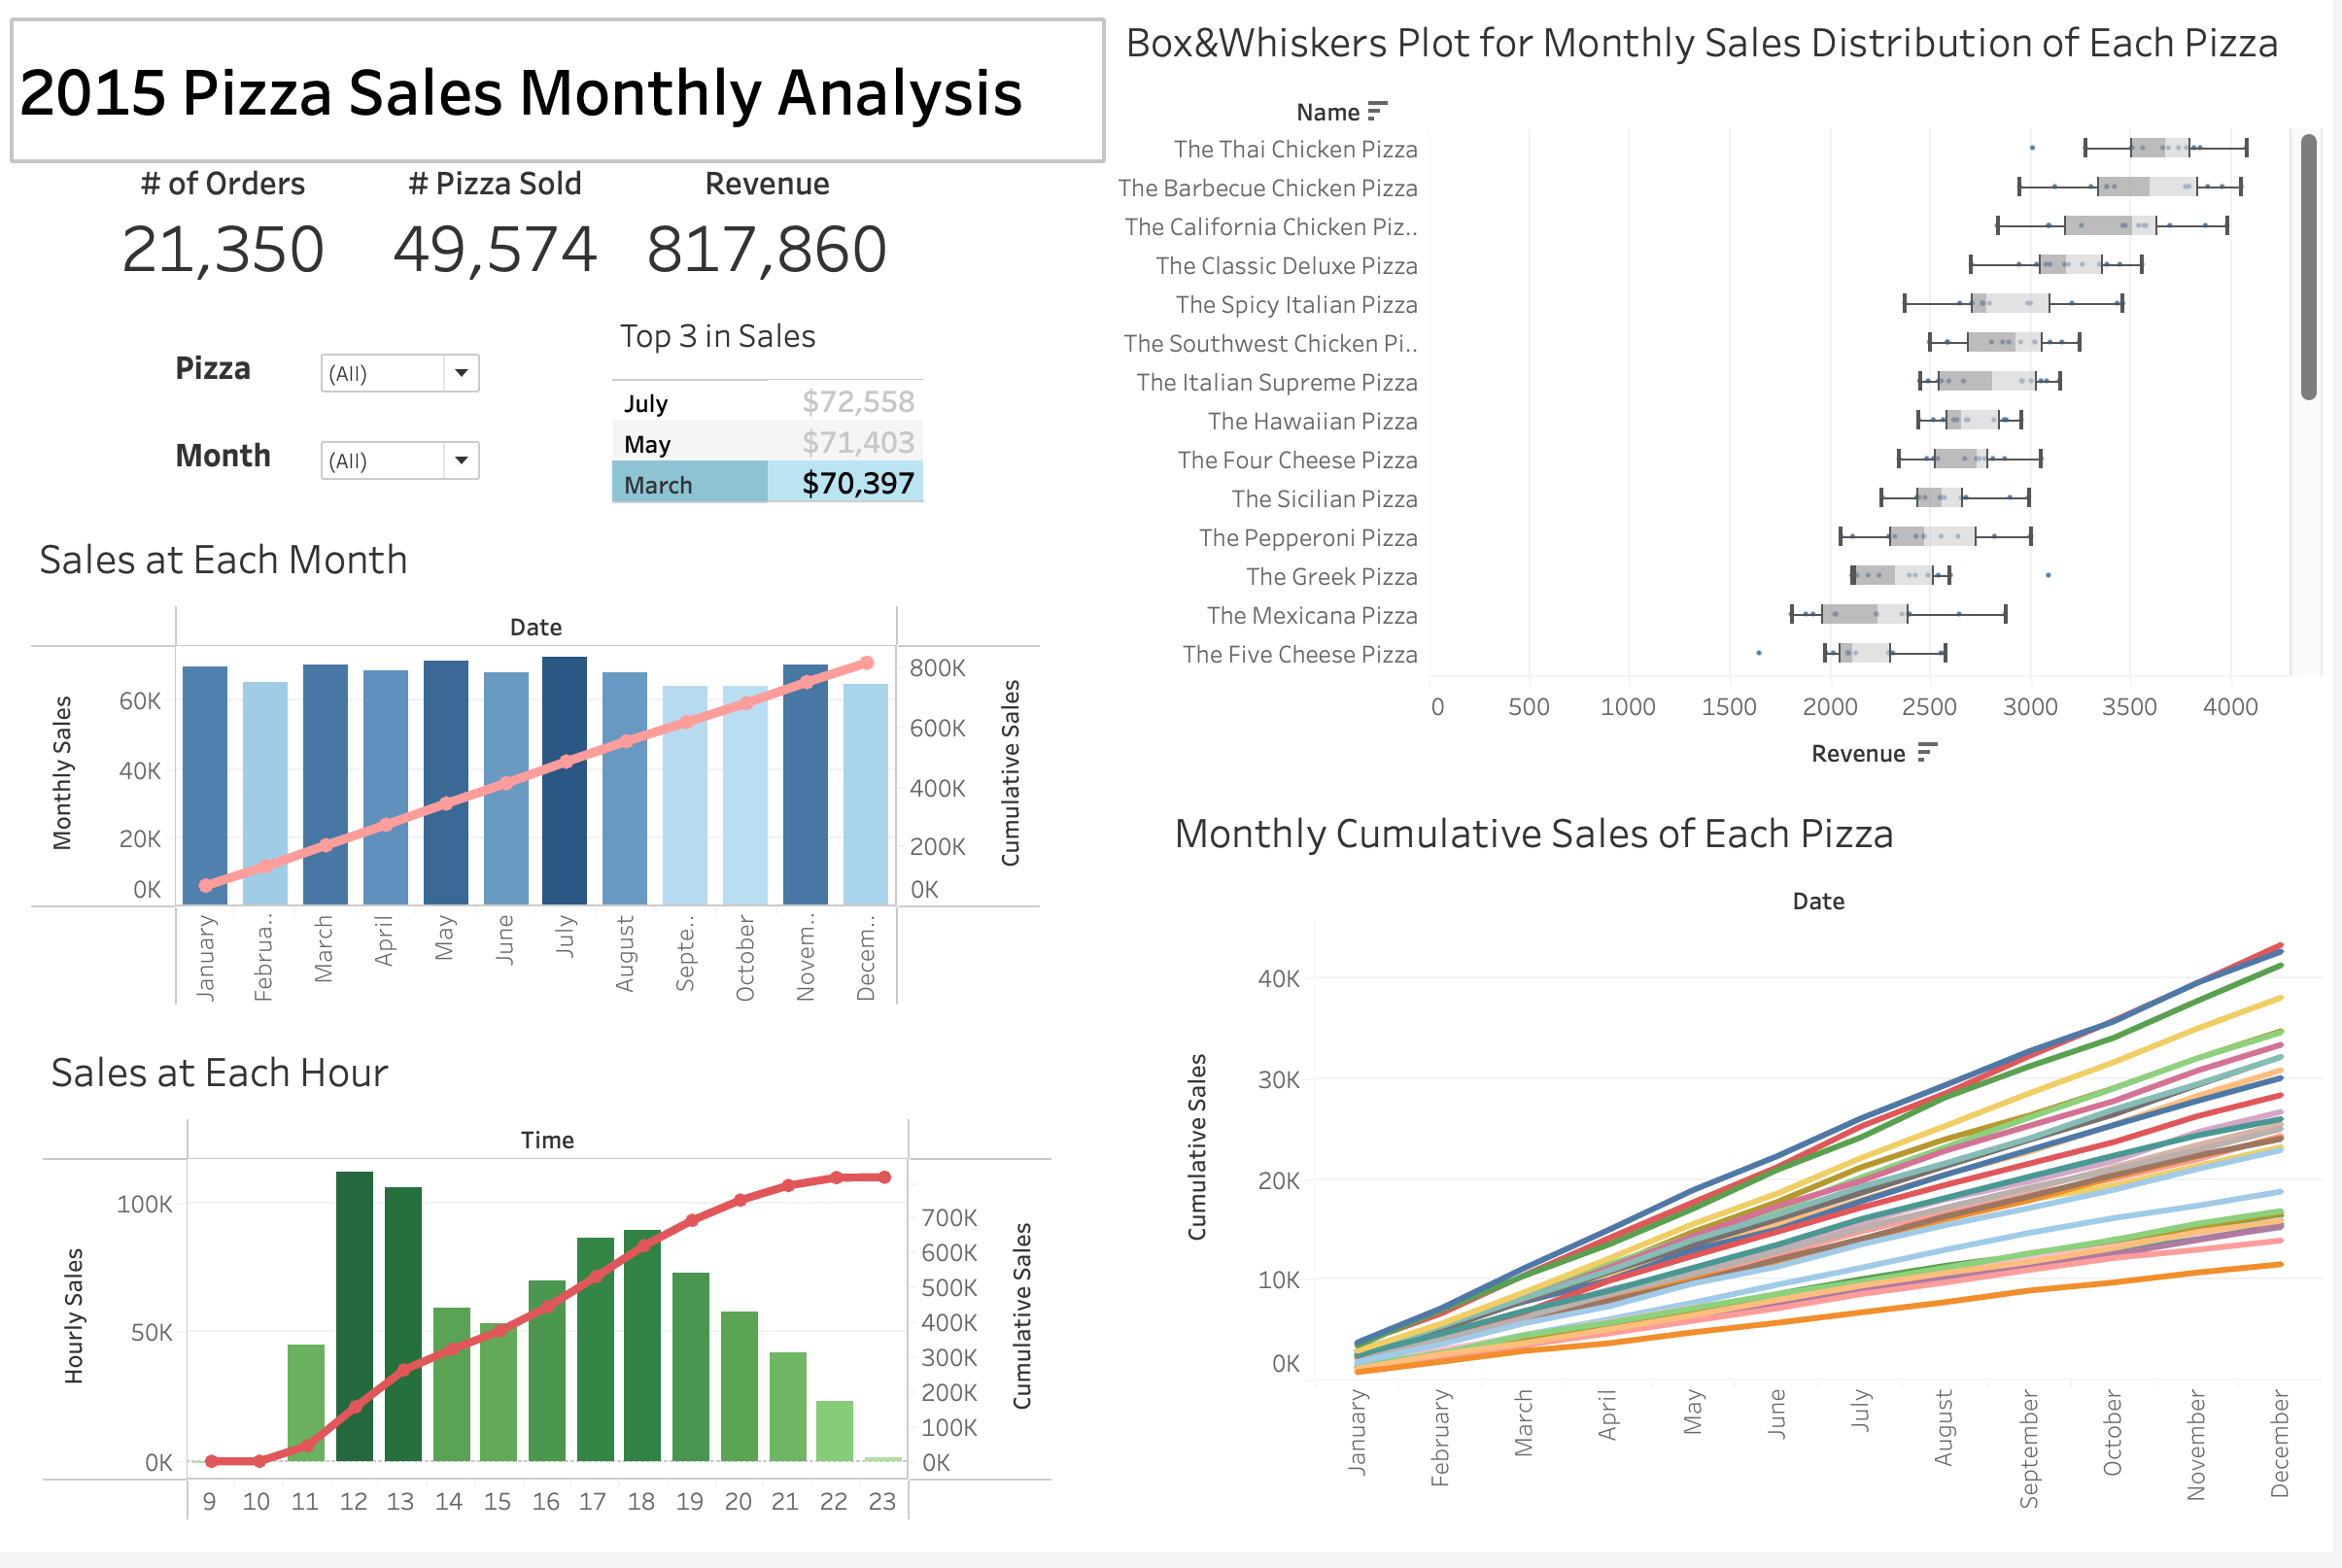

What the dashboard file says about the page in this screenshot:
{"tool":"tableau","page":{"name":"Dashboard 2","canvas":[1000,1000],"units":"permille","ordinal":1},"visuals":[{"type":"worksheet","title":"box_month_name","mark":"Circle","rows":["name"],"cols":["Revenue"],"box":[479.2,5,516.7,500]},{"type":"text","box":[5.8,15,466.7,88.8]},{"type":"worksheet","title":"KPI","mark":"Automatic","box":[37.5,106.2,396.7,102.5]},{"type":"worksheet","title":"Top_3_sales (2)","mark":"Automatic","rows":["date"],"box":[262.5,197.5,175.8,145]},{"type":"filter","title":"box_month_name","param":"[federated.1o0dw7k0faptvu1bidrdg0b0qbd8].[none:name:nk]","box":[75,225,133.3,45]},{"type":"filter","title":"Bar_month","param":"[federated.1o0dw7k0faptvu1bidrdg0b0qbd8].[mn:date:ok]","box":[75,281.2,133.3,45]},{"type":"worksheet","title":"Bar_month","mark":"Bar","rows":["Revenue","Revenue"],"cols":["date"],"box":[13.3,337.5,433.3,312.5]},{"type":"worksheet","title":"c_month_name","mark":"Automatic","rows":["monthly_cumulative_sales"],"cols":["date"],"box":[500,513.8,495.8,475]},{"type":"worksheet","title":"c_hour_month","mark":"Bar","rows":["Revenue","Revenue"],"cols":["time"],"box":[18.3,667.5,433.3,312.5]}]}

Visuals, with their boxes on the dashboard's canvas, which has no fixed pixel size, in thousandths of its width and height (x1, y1, x2, y2). These are canvas units, not pixel positions in the 2342x1568 screenshot, which may show the page scaled, cropped or inside an application window:
"box_month_name" worksheet (Circle marks): bbox=[479, 5, 996, 505]
text: bbox=[6, 15, 472, 104]
"KPI" worksheet: bbox=[38, 106, 434, 209]
"Top_3_sales (2)" worksheet: bbox=[262, 198, 438, 342]
"box_month_name" filter: bbox=[75, 225, 208, 270]
"Bar_month" filter: bbox=[75, 281, 208, 326]
"Bar_month" worksheet (Bar marks): bbox=[13, 338, 447, 650]
"c_month_name" worksheet: bbox=[500, 514, 996, 989]
"c_hour_month" worksheet (Bar marks): bbox=[18, 668, 452, 980]
